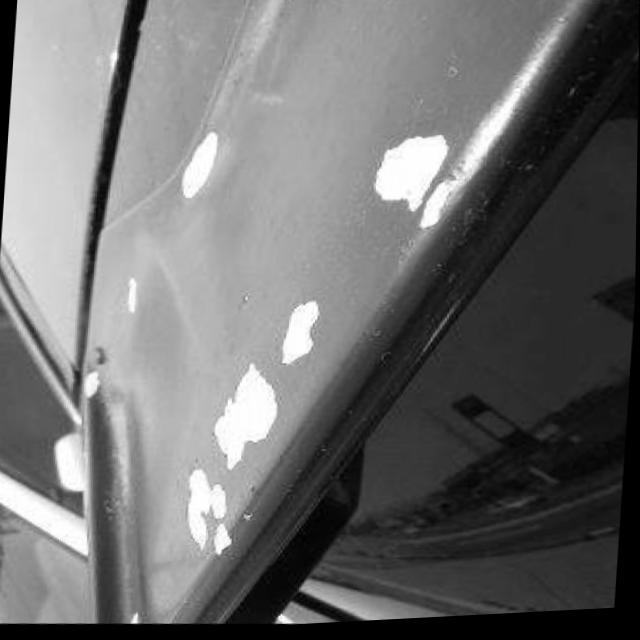Paint-fading: (359, 125, 482, 238), (204, 356, 283, 473), (178, 466, 237, 562), (273, 289, 324, 375), (174, 129, 221, 204), (124, 276, 138, 314), (80, 371, 98, 399), (123, 607, 142, 624)
Scratch: (410, 291, 469, 363)
